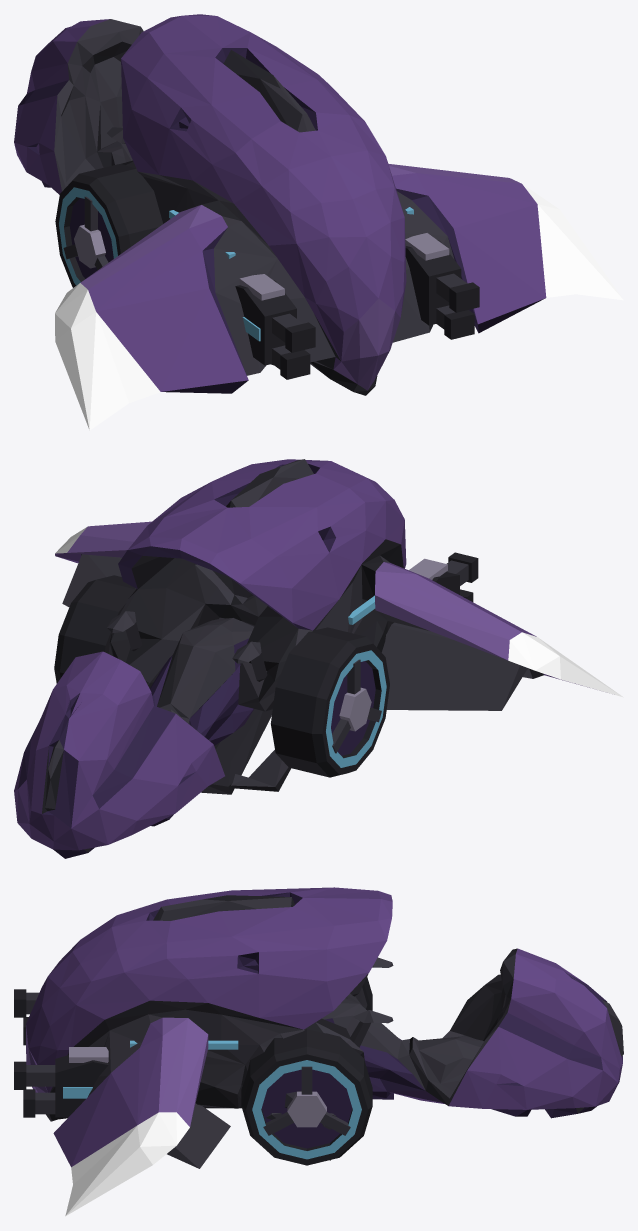
Rendered from ghost.glb.
3 views of the same model, one above another, from view 1: azimuth 30°, elevation 25°; view 2: azimuth 150°, elevation 25°; view 3: azimuth 270°, elevation 25° (orthographic). The views are drawn at different scales.
Bounding box in the file's own units: 0.2767 × 0.1364 × 0.3033.
